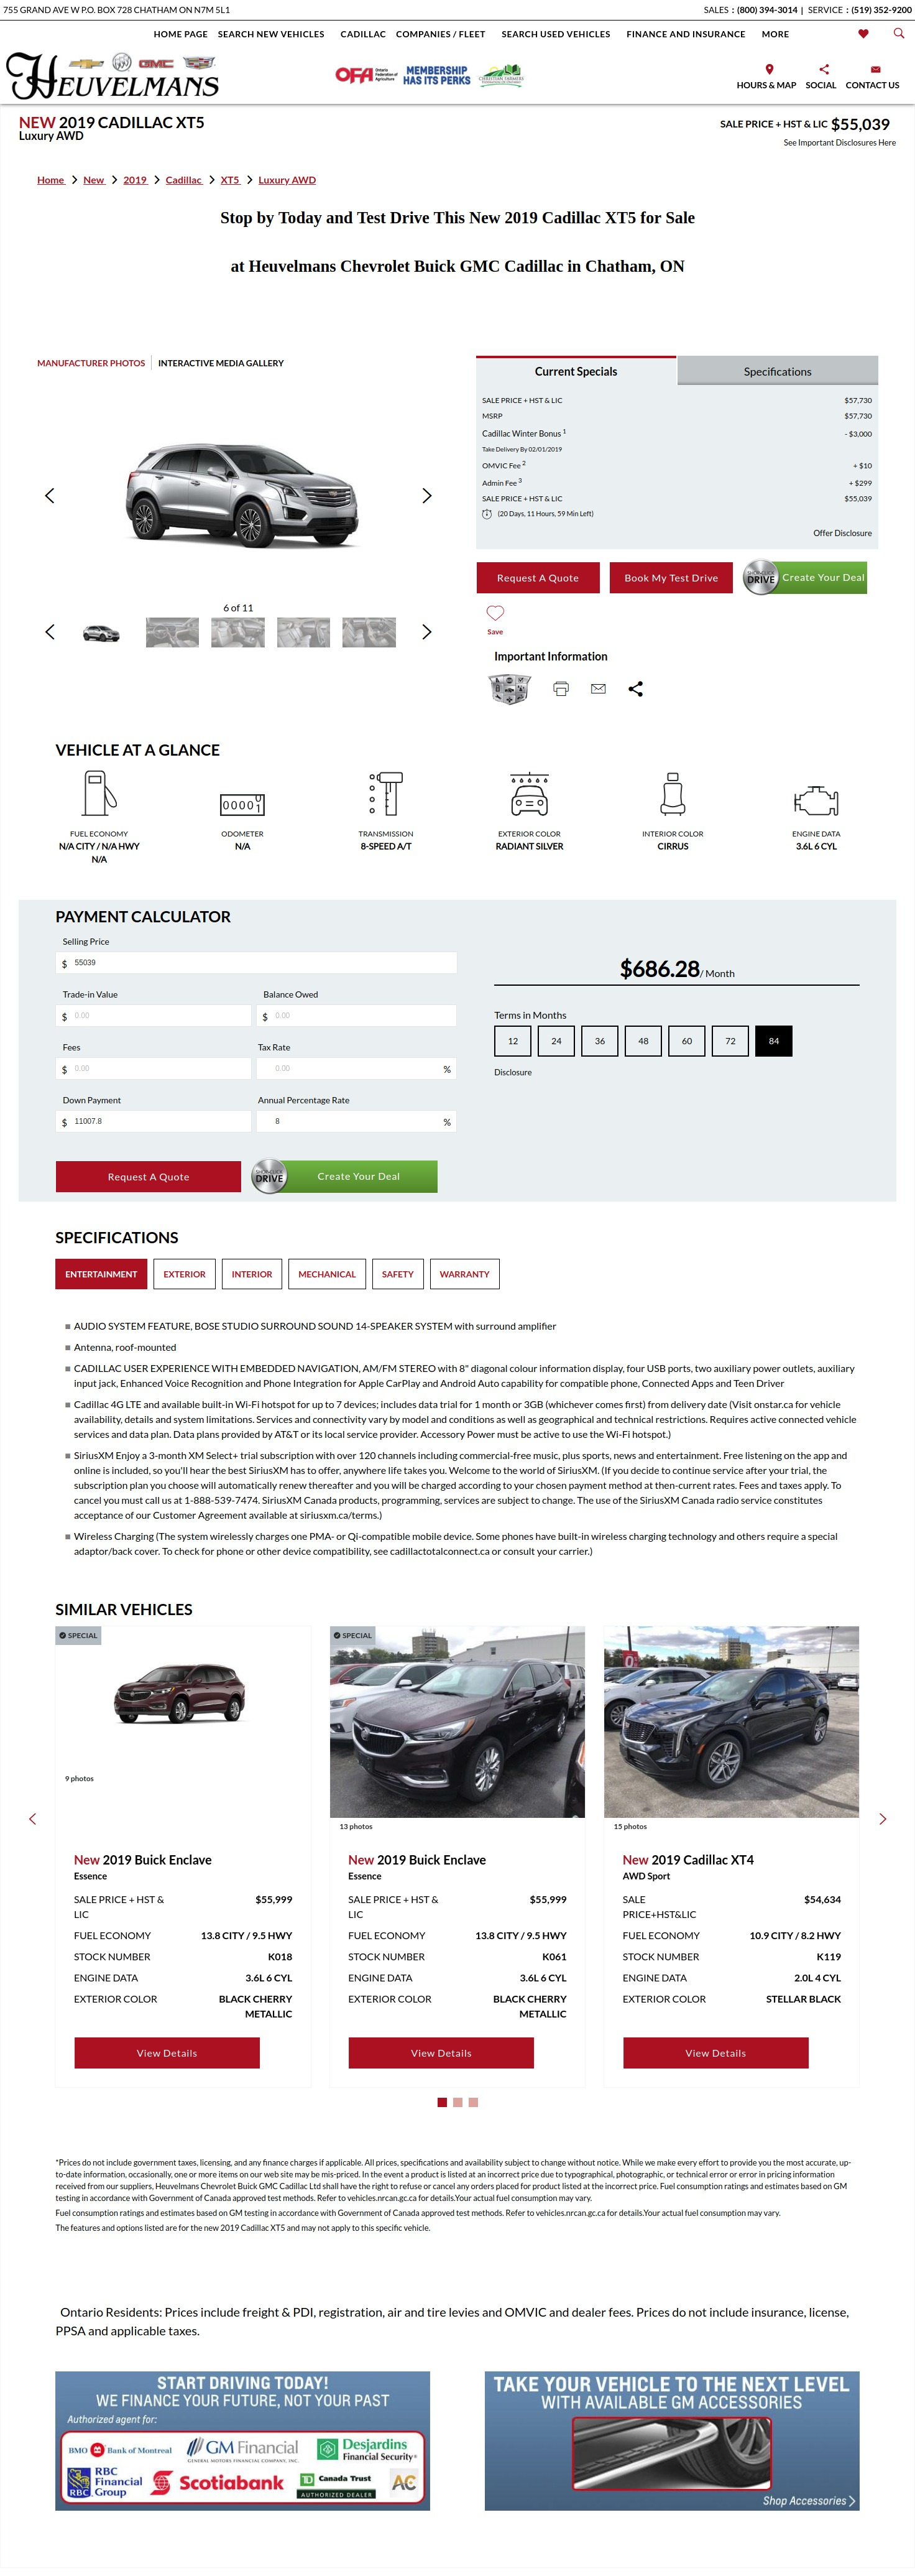car: (422, 624, 432, 641)
